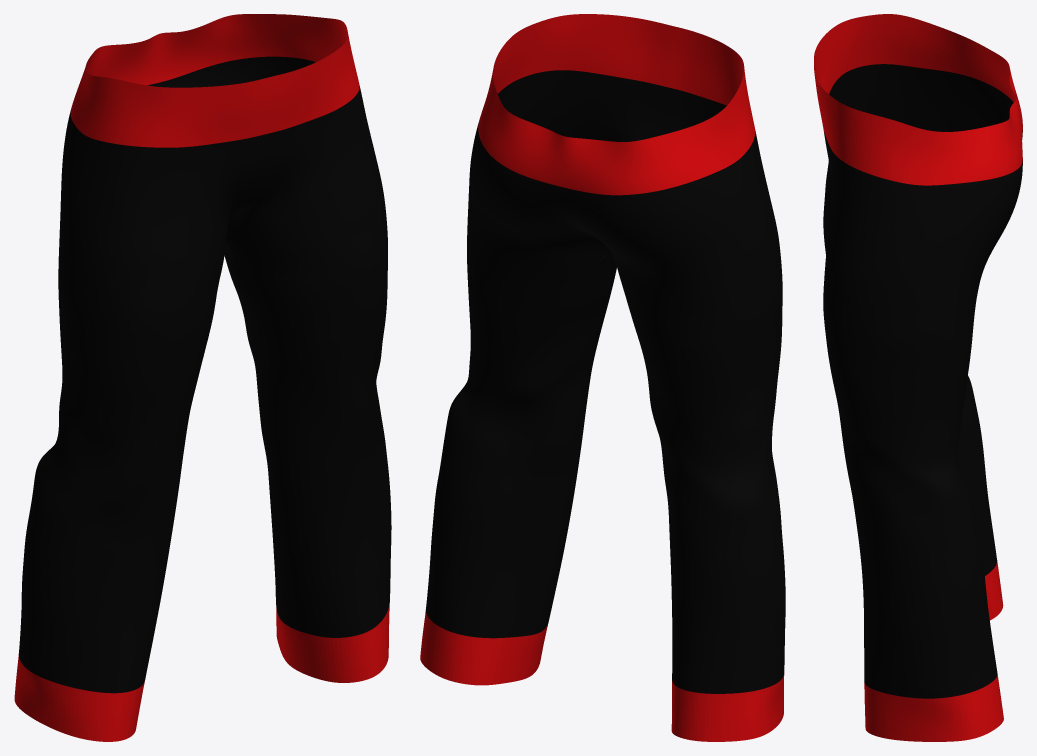
File: Pantaloni.fbx
The picture shows the model from 3 angles, left to right: view 1: azimuth 30°, elevation 25°; view 2: azimuth 150°, elevation 25°; view 3: azimuth 270°, elevation 25°; orthographic projection. The views are drawn at different scales.
Parts seen in each view (by area): view 1: Plane; view 2: Plane; view 3: Plane.
Boxes of the visible parts, box(x1,y1,x2,y2) form: Plane: box(14, 14, 391, 741); Plane: box(420, 14, 785, 741); Plane: box(814, 14, 1022, 741).
Size of the model in its own units: 178 by 314 by 97.04.
